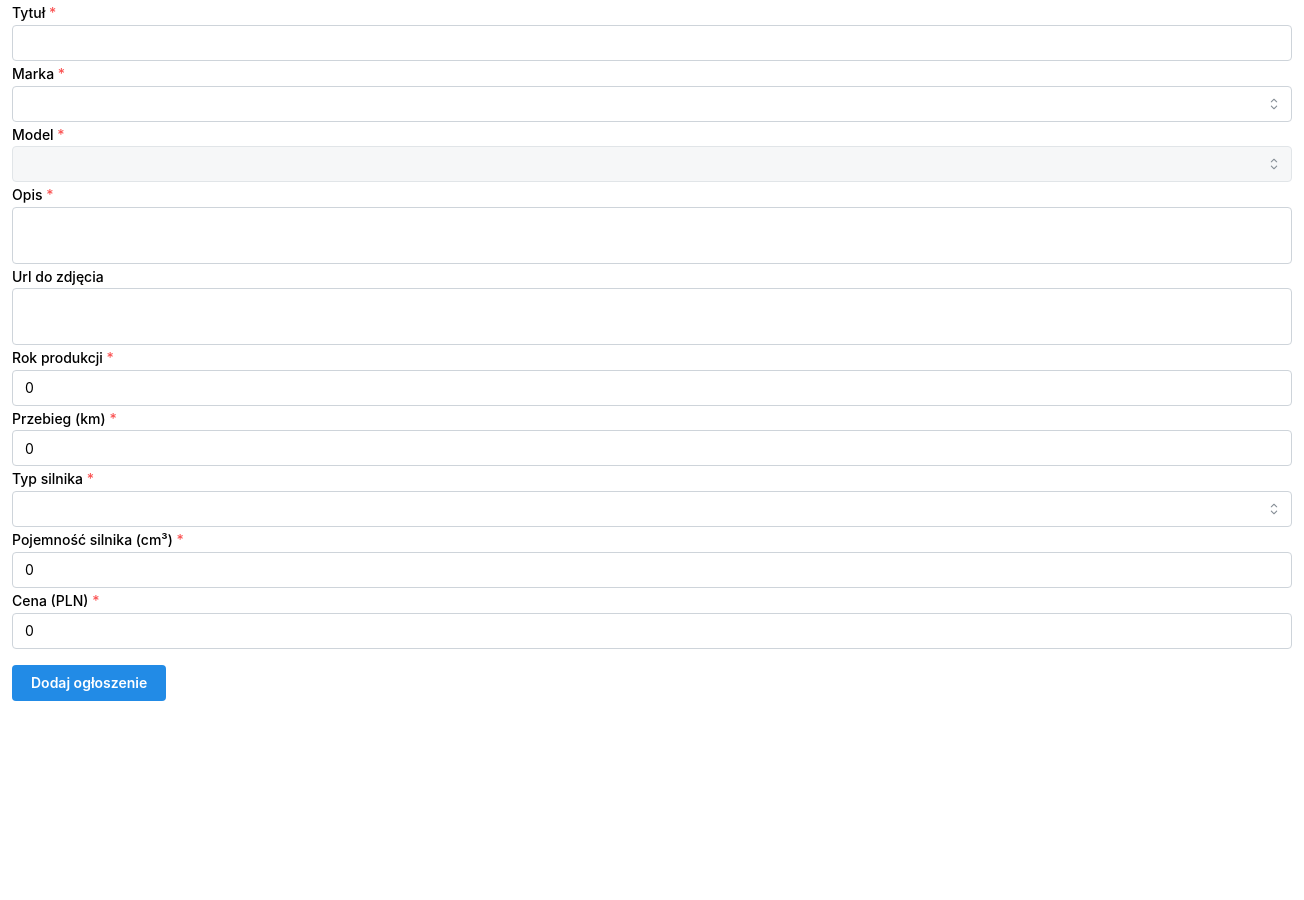
it: Listing adding form - title input › displays error when car year is less than 1900
The image size is (1304, 900).
Replace the text in the number field with test id "year-input" with "1899". click: (652, 388)
box: top-left (12, 370), bottom-right (1292, 406)
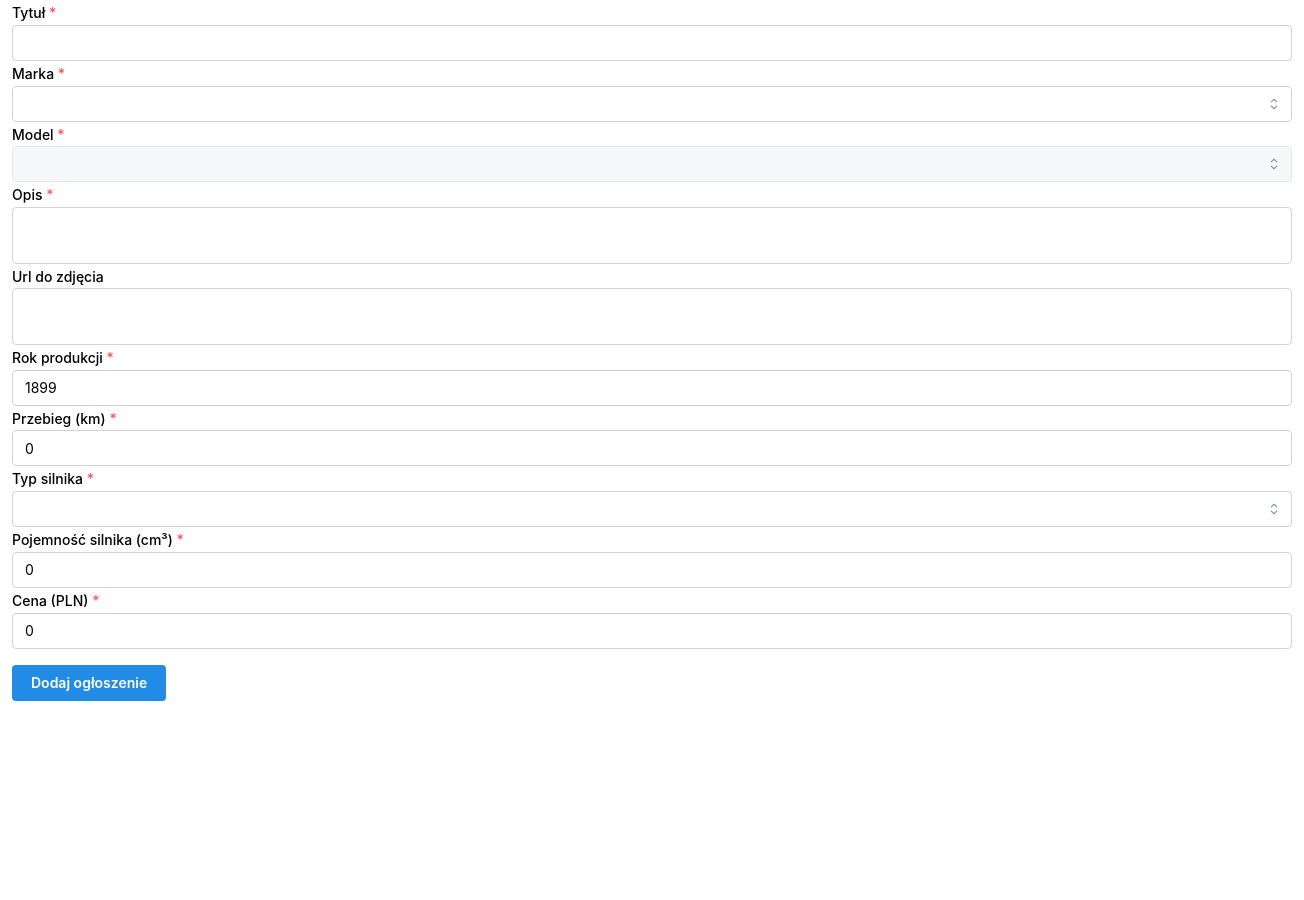
Leave the number field with test id "year-input", box top-left (12, 370), bottom-right (1292, 406)
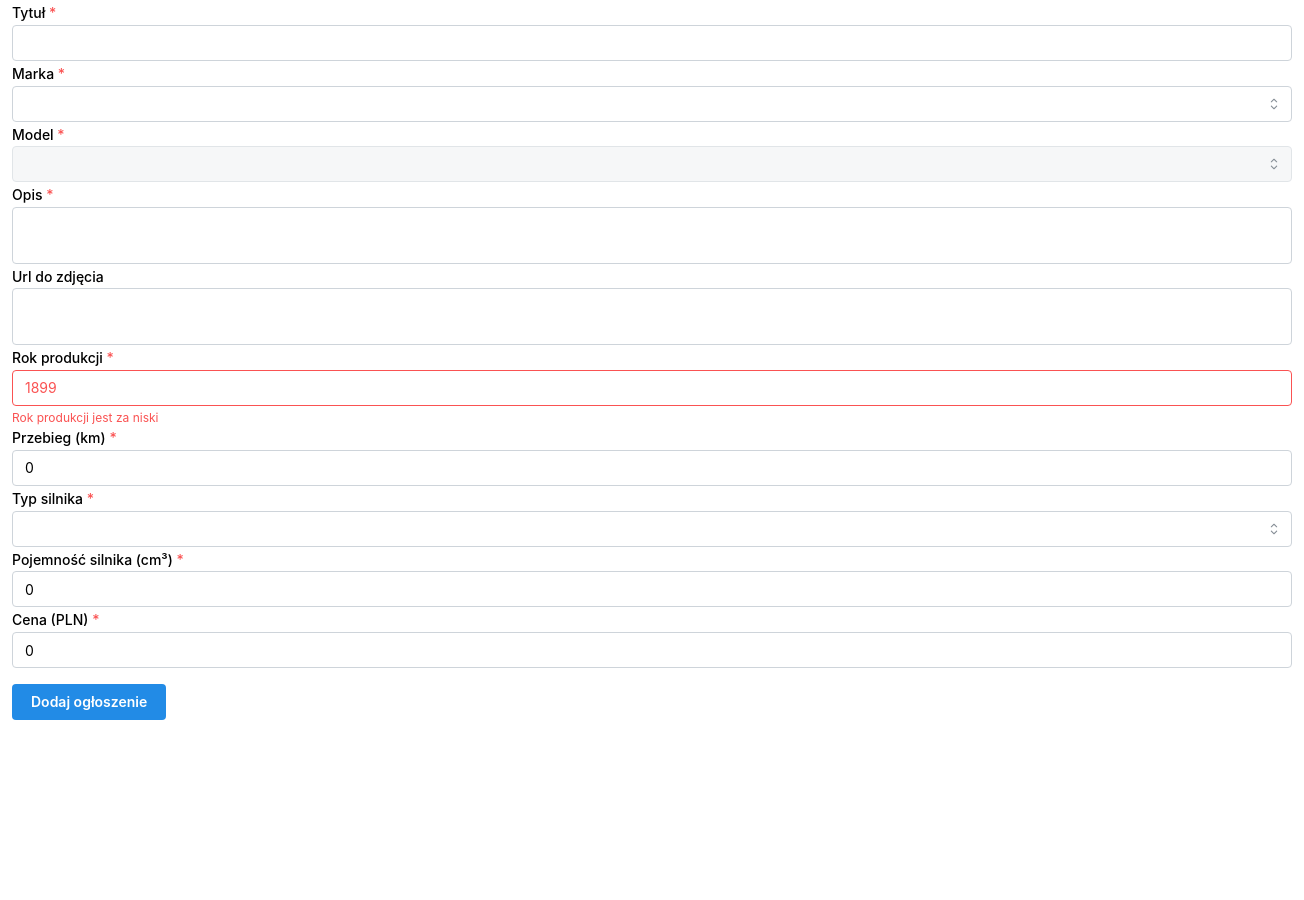
Expected: the text "Rok produkcji jest za niski" is shown, top-left (12, 410), bottom-right (158, 424)
